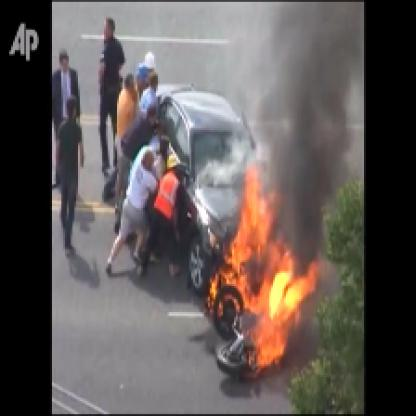Fire: (208, 165, 319, 381)
Smoke: (277, 2, 340, 221)
